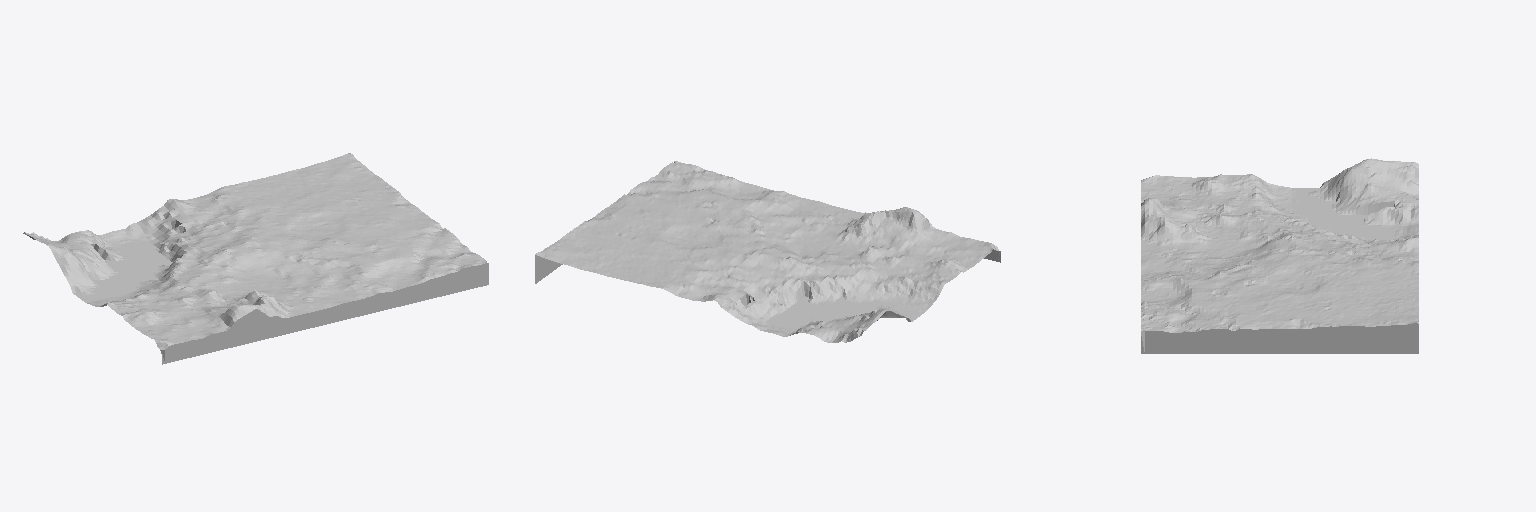
The model's file is gale_crater_RLC.obj.
The picture shows the model from 3 angles: view 1: azimuth 30°, elevation 25°; view 2: azimuth 150°, elevation 25°; view 3: azimuth 270°, elevation 25°; orthographic projection.
Parts seen in each view (by area): view 1: mesh_RLC; view 2: mesh_RLC; view 3: mesh_RLC.
Part boxes in pixels (x1,y1,x2,y2): mesh_RLC: (23, 153, 488, 364); mesh_RLC: (535, 161, 1000, 342); mesh_RLC: (1141, 158, 1418, 353).
Size of the model in its own units: 548 by 57.08 by 404.